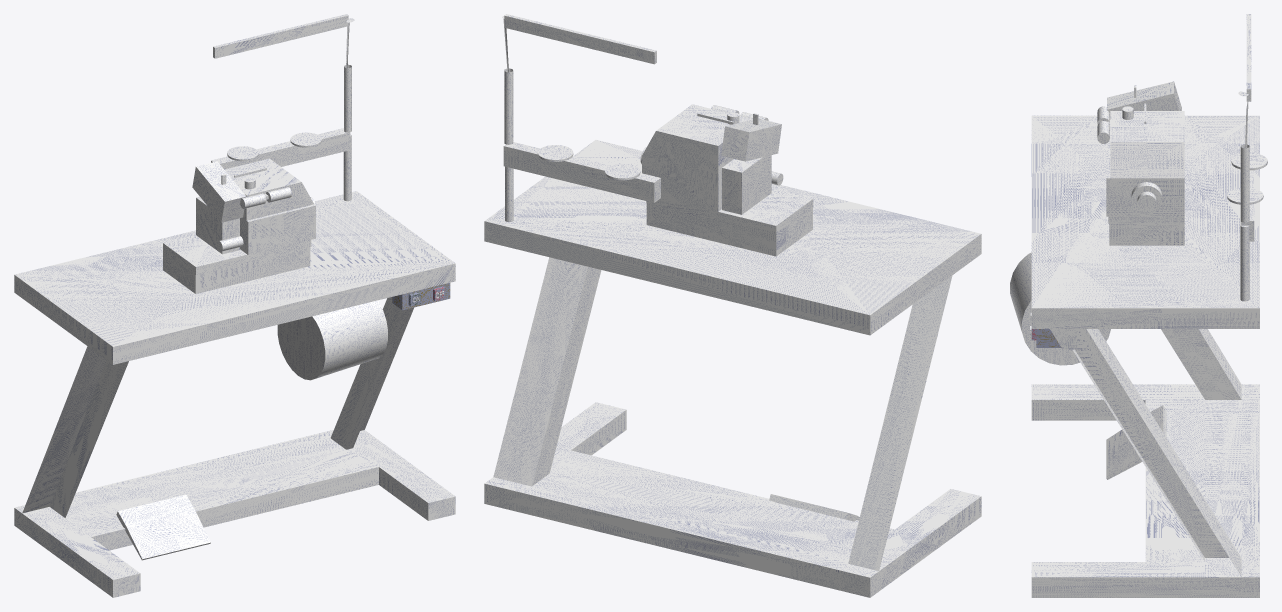
The model's file is OverstockSewingMachine.fbx.
3 renders of one model, left to right at view 1: azimuth 30°, elevation 25°; view 2: azimuth 150°, elevation 25°; view 3: azimuth 270°, elevation 25°, orthographic. The views are drawn at different scales.
Parts seen in each view (by area): view 1: Mesin_jahit1, test_overlock_machine1, Group2; view 2: Mesin_jahit1, test_overlock_machine1, Group2; view 3: Mesin_jahit1, test_overlock_machine1, Group2, Group1.
Boxes of the visible parts, left/top/right/bottom form: Mesin_jahit1: left=14, top=14, right=455, bottom=597; test_overlock_machine1: left=163, top=158, right=315, bottom=293; Group2: left=192, top=161, right=246, bottom=222; Mesin_jahit1: left=484, top=14, right=981, bottom=597; test_overlock_machine1: left=642, top=104, right=813, bottom=256; Group2: left=721, top=118, right=781, bottom=161; Mesin_jahit1: left=1010, top=14, right=1267, bottom=597; test_overlock_machine1: left=1106, top=85, right=1184, bottom=245; Group2: left=1107, top=81, right=1181, bottom=119; Group1: left=1131, top=182, right=1162, bottom=214.
Bounding box in the file's own units: 1 × 1.22 × 0.5649.
